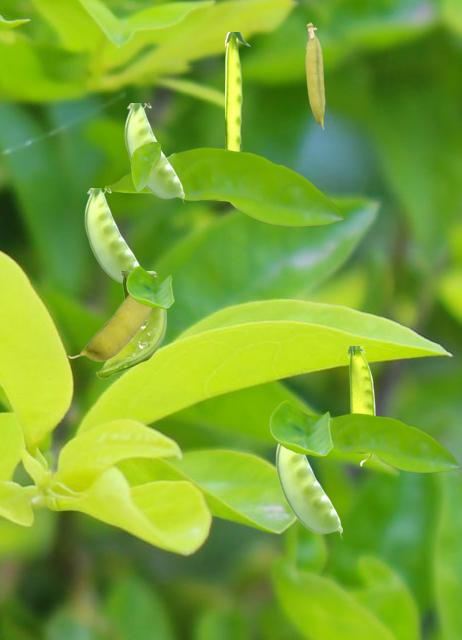pea: (68, 275, 158, 360), (95, 271, 165, 377), (275, 443, 341, 539), (124, 103, 183, 203), (84, 188, 140, 283), (348, 346, 374, 465), (225, 32, 249, 150), (305, 22, 324, 128)
